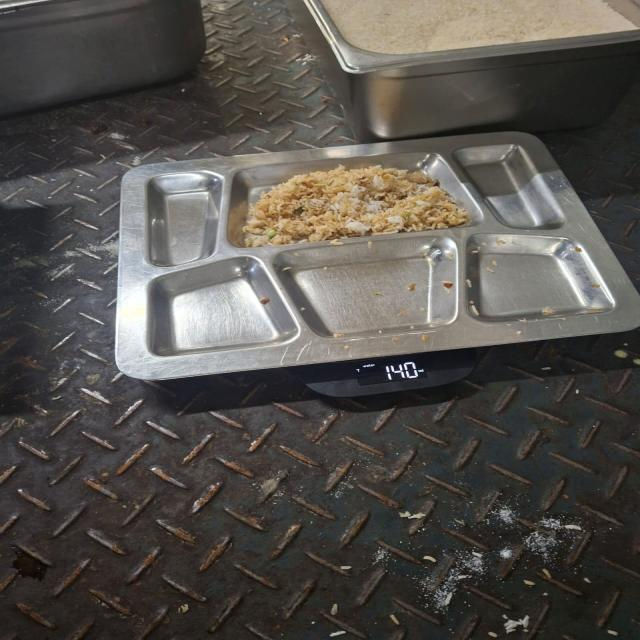Fried Rice: (247, 159, 462, 241)
